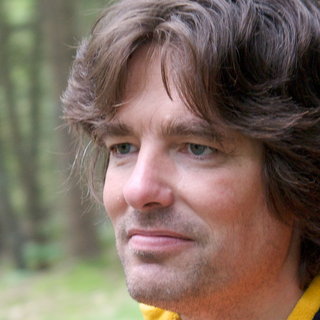eye: (173, 138, 221, 165), (103, 136, 143, 160)
